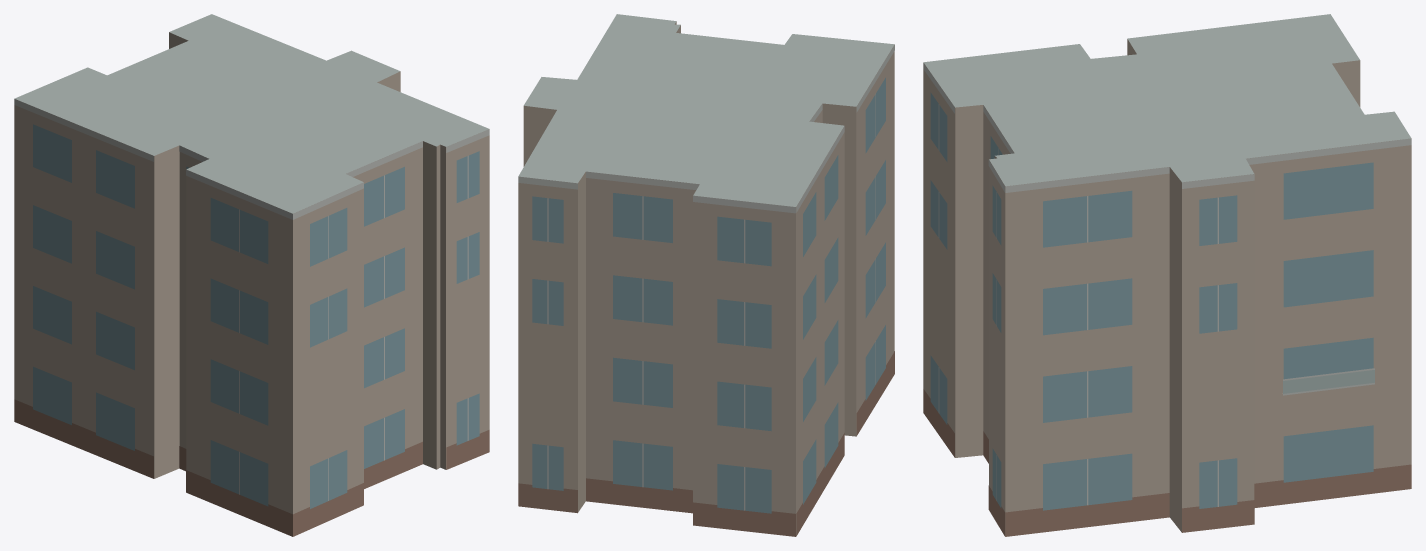
The model's file is survey-upis-32963609.glb.
3 renders of one model, left to right at view 1: azimuth 30°, elevation 25°; view 2: azimuth 150°, elevation 25°; view 3: azimuth 270°, elevation 25°, orthographic. The views are drawn at different scales.
Parts seen in each view (by area): view 1: survey-upis-32963609.tmp; view 2: survey-upis-32963609.tmp; view 3: survey-upis-32963609.tmp.
Part boxes in pixels (<box>): survey-upis-32963609.tmp: <box>14,14,489,536</box>; survey-upis-32963609.tmp: <box>518,14,894,536</box>; survey-upis-32963609.tmp: <box>923,14,1411,536</box>.
Bounding box in the file's own units: 13.4 × 12.7 × 16.04.
